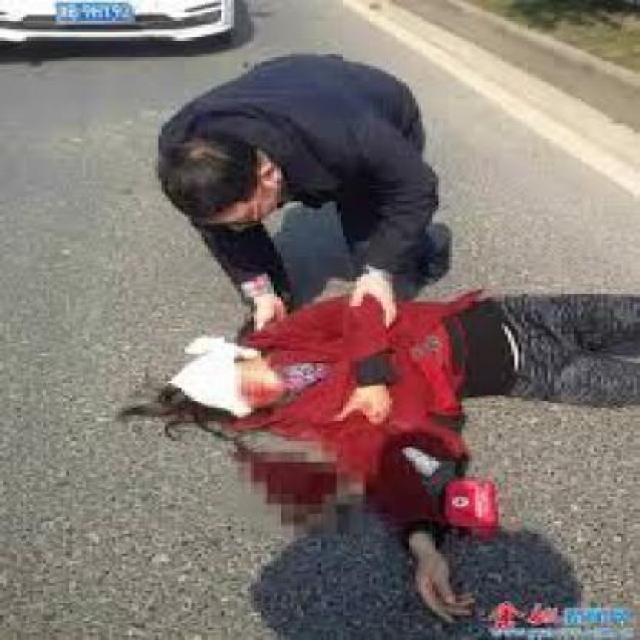fall: (122, 240, 630, 637)
